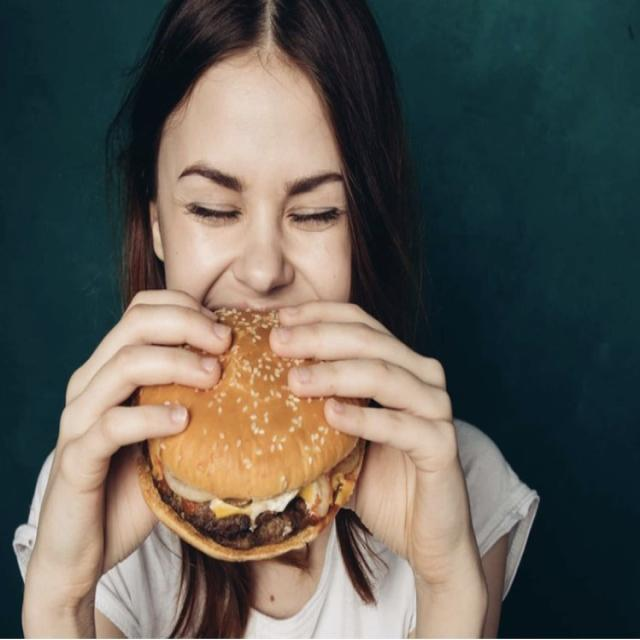eating-person: (4, 0, 543, 639)
